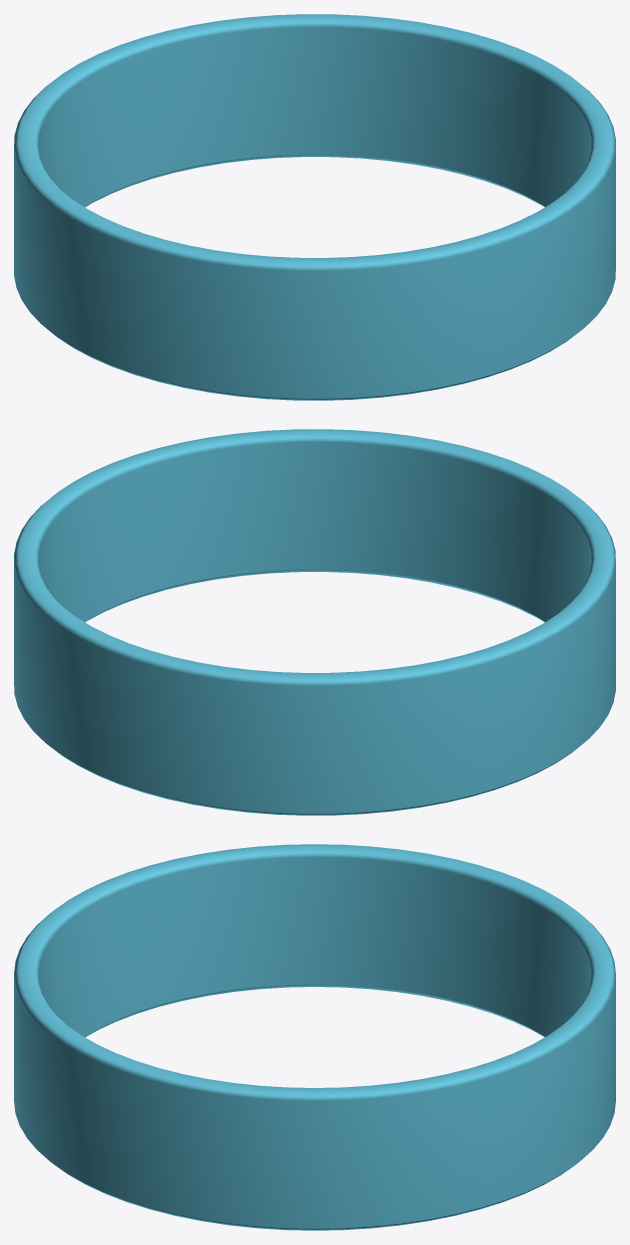
3 renders of one model, top to bottom at view 1: azimuth 30°, elevation 25°; view 2: azimuth 150°, elevation 25°; view 3: azimuth 270°, elevation 25°, orthographic.
Visible parts, largest first — view 1: seal_body; view 2: seal_body; view 3: seal_body.
Part boxes in pixels (x1=…): seal_body: x1=14, y1=14, x2=615, y2=400; seal_body: x1=14, y1=429, x2=615, y2=815; seal_body: x1=14, y1=844, x2=615, y2=1230.
Size of the model in its own units: 0.0762 by 0.0191 by 0.0762.
